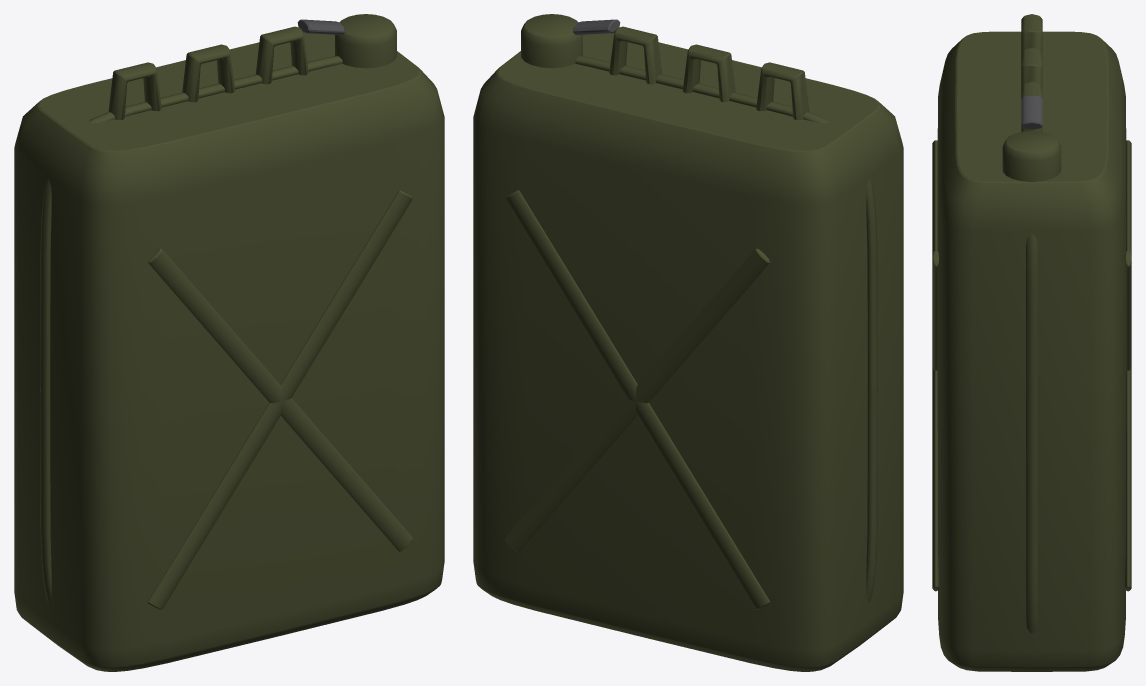
Rendered from jerrycan.glb.
3 views of the same model, side by side, from view 1: azimuth 30°, elevation 25°; view 2: azimuth 150°, elevation 25°; view 3: azimuth 270°, elevation 25° (orthographic). The views are drawn at different scales.
Parts seen in each view (by area): view 1: jerrycan; view 2: jerrycan; view 3: jerrycan.
Boxes of the visible parts, x1,y1,x2,y2 form: jerrycan: (14,14,444,671); jerrycan: (473,14,903,671); jerrycan: (932,14,1131,671).
Size of the model in its own units: 0.3583 by 0.5202 by 0.174.
